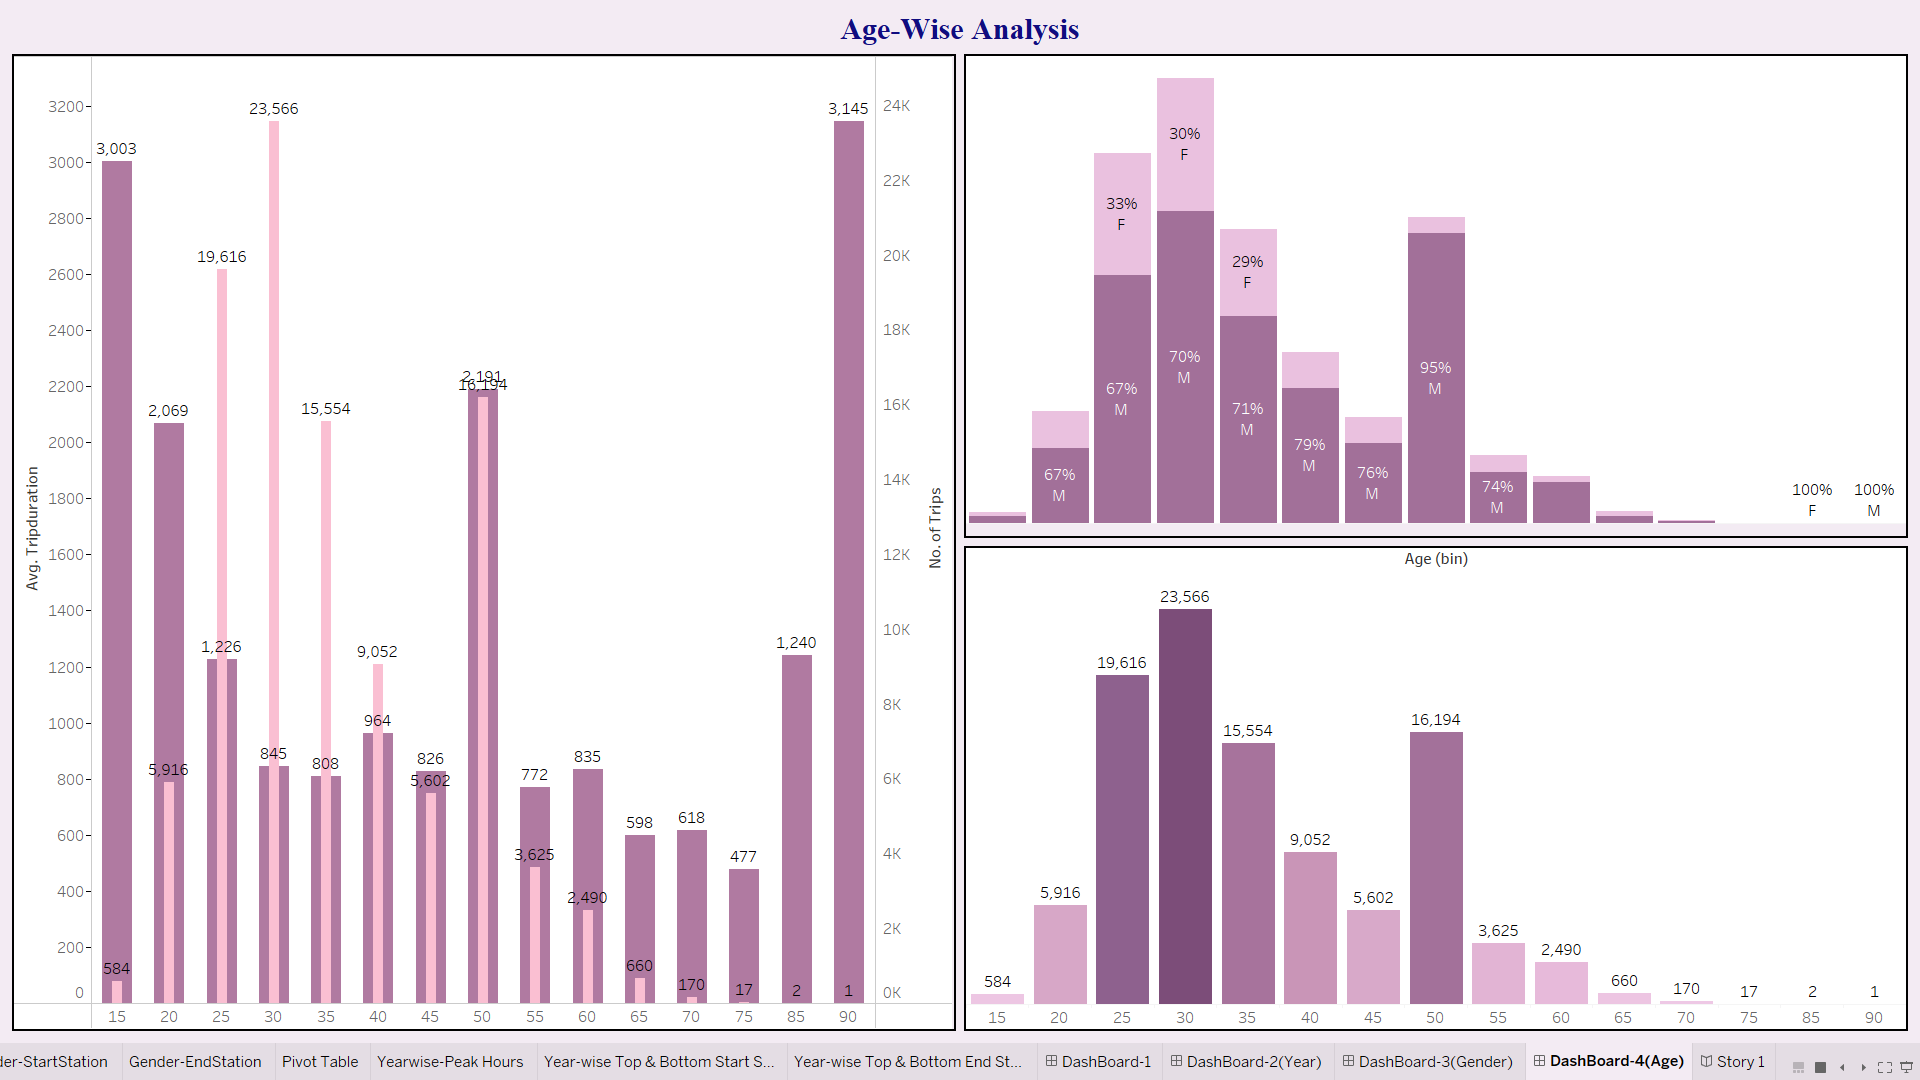

The dashboard page shown, as its layout file describes it:
{"tool":"tableau","page":{"name":"DashBoard-4(Age)","canvas":[1000,1000],"units":"permille","ordinal":3},"visuals":[{"type":"title","box":[5.5,9.5,989,49.9]},{"type":"worksheet","title":"Detailed Age","mark":"Bar","rows":["tripduration","Calculation_1776670060737310723"],"cols":["Age (bin)"],"box":[5.5,59.5,494.4,931]},{"type":"worksheet","title":"Age-GEnder","mark":"Automatic","rows":["Calculation_1776670060737310723"],"cols":["Age (bin)"],"box":[499.9,59.5,494.7,465.4]},{"type":"worksheet","title":"Age","mark":"Automatic","rows":["Calculation_1776670060737310723"],"cols":["Age (bin)"],"box":[499.9,524.8,494.7,465.7]}]}

Visuals, with their boxes on the dashboard's canvas, which has no fixed pixel size, in thousandths of its width and height (x1, y1, x2, y2). These are canvas units, not pixel positions in the 1920x1080 screenshot, which may show the page scaled, cropped or inside an application window:
title: select_region(6, 10, 994, 59)
"Detailed Age" worksheet (Bar marks): select_region(6, 60, 500, 990)
"Age-GEnder" worksheet: select_region(500, 60, 995, 525)
"Age" worksheet: select_region(500, 525, 995, 990)
